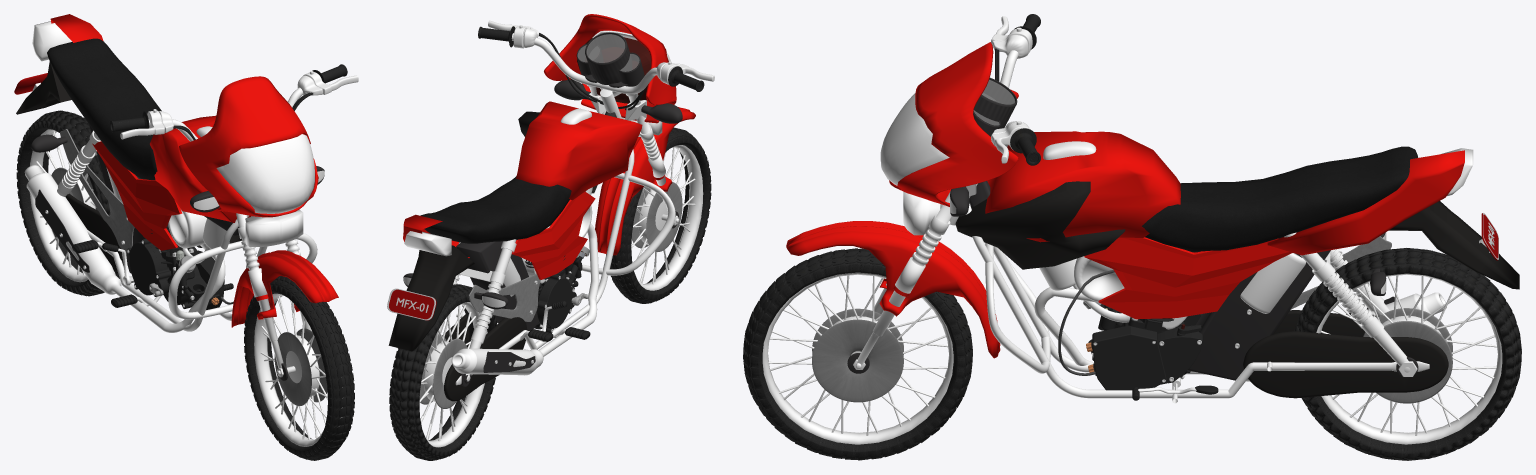
3 renders of one model, left to right at view 1: azimuth 30°, elevation 25°; view 2: azimuth 150°, elevation 25°; view 3: azimuth 270°, elevation 25°, orthographic. The views are drawn at different scales.
Visible parts, largest first — view 1: Cylinder.024, Cube.024, Cube.009, Cube.026, Plane.002, Cylinder.009, Heavy Bike, Cube.023, Cylinder.003, Circle.002, Cube.003, Circle.001 (+19 smaller); view 2: Plane.002, Cube.003, Cylinder.024, Cube.009, Cube.022, Cube.024, Cube.023, Circle.002, Cylinder.003, Cylinder.009, Heavy Bike, Cube.006 (+23 smaller); view 3: Cylinder.024, Plane.002, Cube.009, Cube.003, Cube.006, Cube.023, Cube.024, Circle.002, Heavy Bike, Cube.005, Cylinder.003, Cube.012 (+16 smaller).
Boxes of the visible parts, x1=… form: Cylinder.024: x1=244, y1=276, x2=354, y2=460; Cube.024: x1=179, y1=76, x2=318, y2=217; Cube.009: x1=47, y1=38, x2=161, y2=180; Cube.026: x1=216, y1=134, x2=314, y2=213; Plane.002: x1=16, y1=110, x2=119, y2=296; Cylinder.009: x1=24, y1=165, x2=225, y2=332; Heavy Bike: x1=45, y1=210, x2=247, y2=309; Cube.023: x1=92, y1=141, x2=182, y2=250; Cylinder.003: x1=87, y1=215, x2=317, y2=331; Circle.002: x1=231, y1=250, x2=338, y2=327; Cube.003: x1=150, y1=115, x2=251, y2=222; Circle.001: x1=254, y1=293, x2=342, y2=446; Plane.002: x1=389, y1=284, x2=496, y2=460; Cube.003: x1=516, y1=101, x2=642, y2=200; Cylinder.024: x1=606, y1=127, x2=711, y2=303; Cube.009: x1=420, y1=176, x2=571, y2=243; Cube.022: x1=388, y1=245, x2=474, y2=351; Cube.024: x1=544, y1=14, x2=676, y2=123; Cube.023: x1=512, y1=191, x2=595, y2=279; Circle.002: x1=595, y1=107, x2=695, y2=255; Cylinder.003: x1=455, y1=149, x2=675, y2=385; Cylinder.009: x1=451, y1=223, x2=599, y2=375; Heavy Bike: x1=494, y1=246, x2=589, y2=365; Cube.006: x1=442, y1=314, x2=527, y2=401; Cylinder.024: x1=743, y1=248, x2=972, y2=460; Plane.002: x1=1294, y1=248, x2=1521, y2=460; Cube.009: x1=1142, y1=146, x2=1418, y2=252; Cube.003: x1=985, y1=131, x2=1180, y2=242; Cube.006: x1=1243, y1=310, x2=1448, y2=398; Cube.023: x1=1084, y1=237, x2=1292, y2=319; Cube.024: x1=889, y1=42, x2=1018, y2=206; Circle.002: x1=786, y1=221, x2=1000, y2=358; Heavy Bike: x1=1058, y1=269, x2=1251, y2=390; Cube.005: x1=955, y1=181, x2=1125, y2=269; Cylinder.003: x1=965, y1=203, x2=1429, y2=398; Cube.012: x1=1267, y1=150, x2=1464, y2=255.
Bounding box in the file's own units: 1.03 × 1.4 × 2.41.
36 materials, 8 textured.
